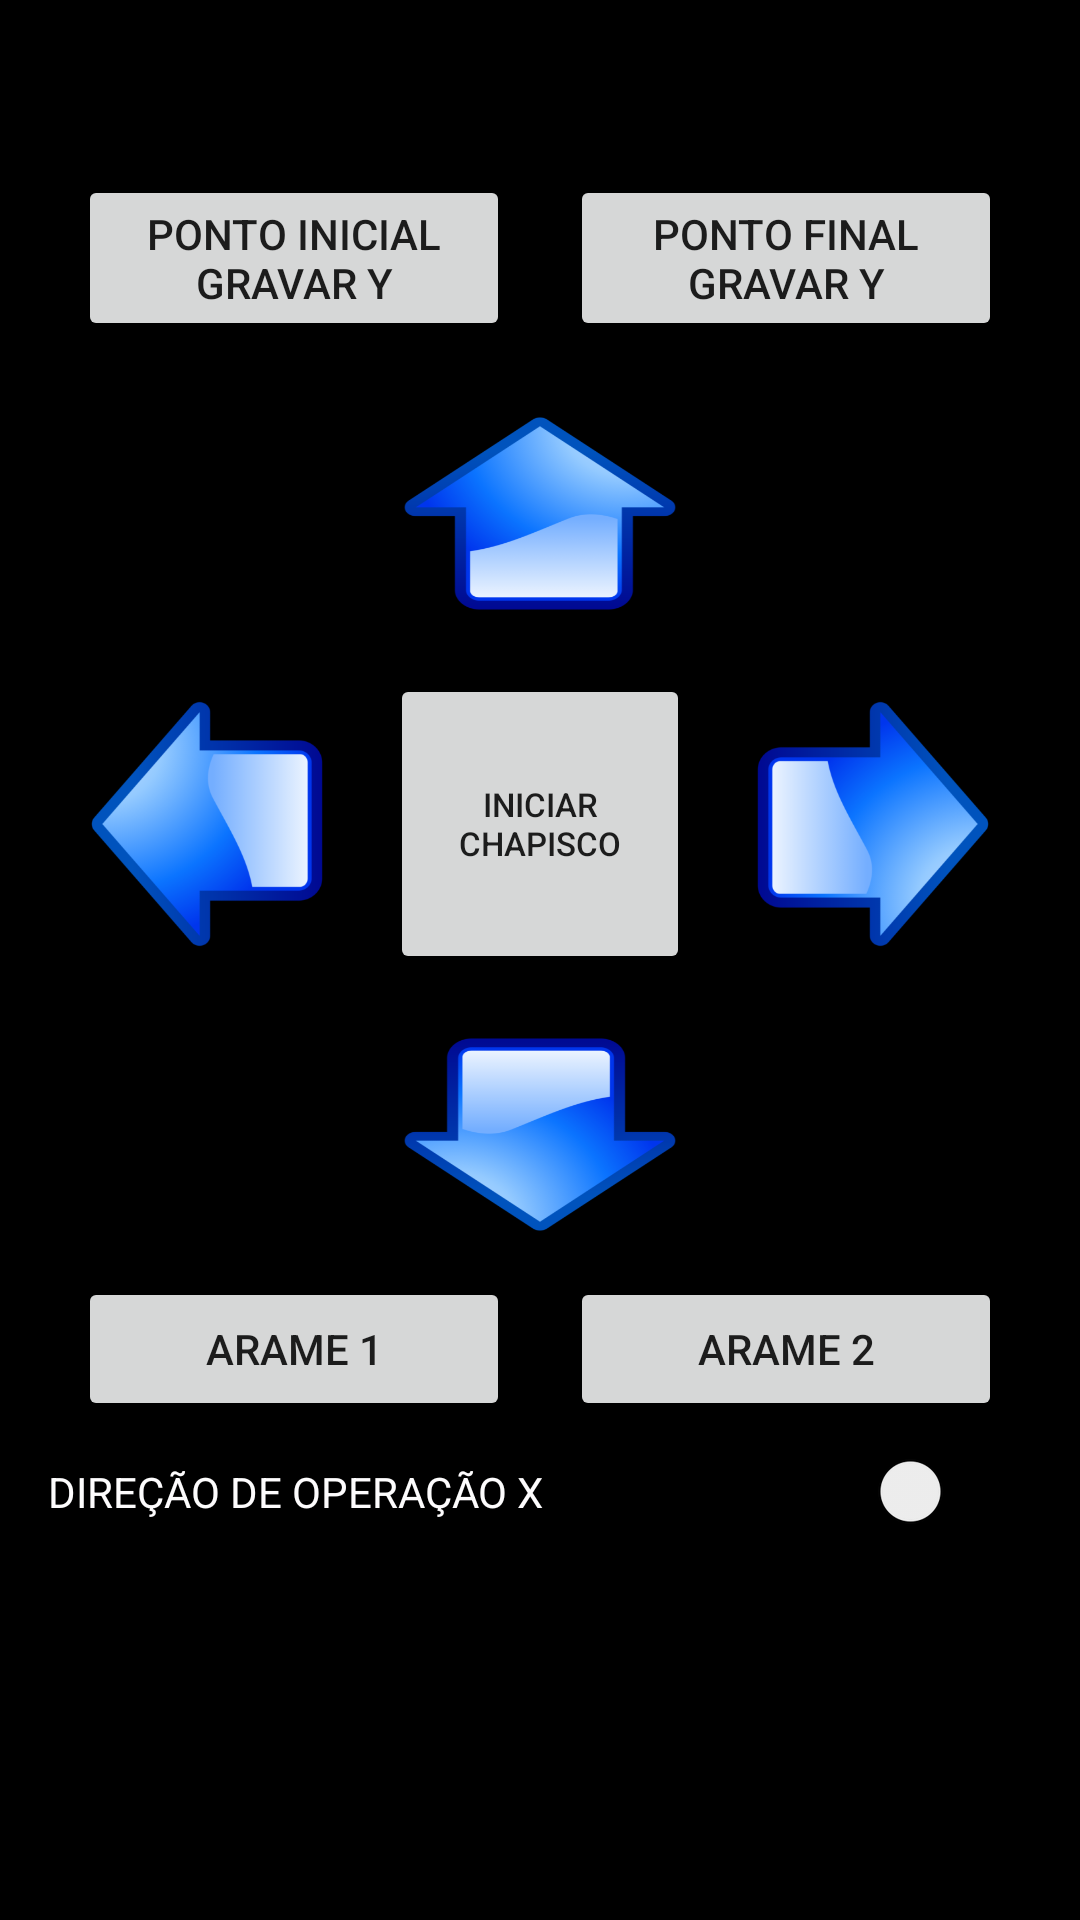

Where icons sit on this 1080w x 1920h app screen, as [x1,y1,x2,y2]:
setaparadireita: [757,702,989,946]
setaparaesquerda: [91,702,323,946]
